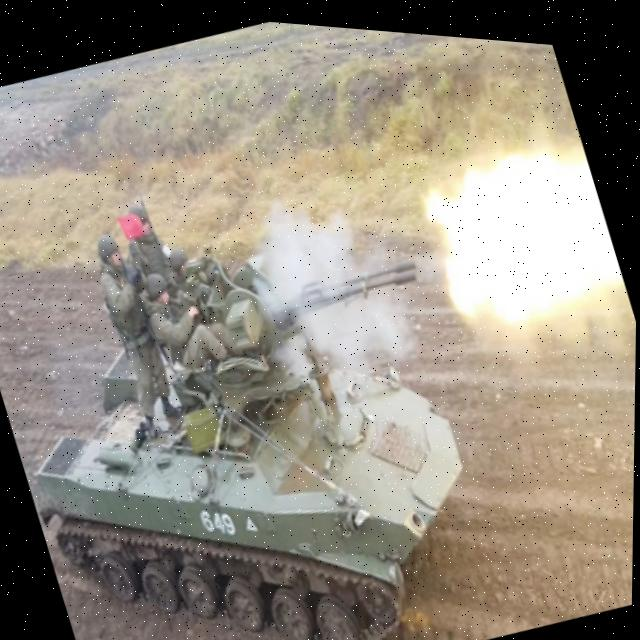MIL_APC: (3, 166, 538, 640)
